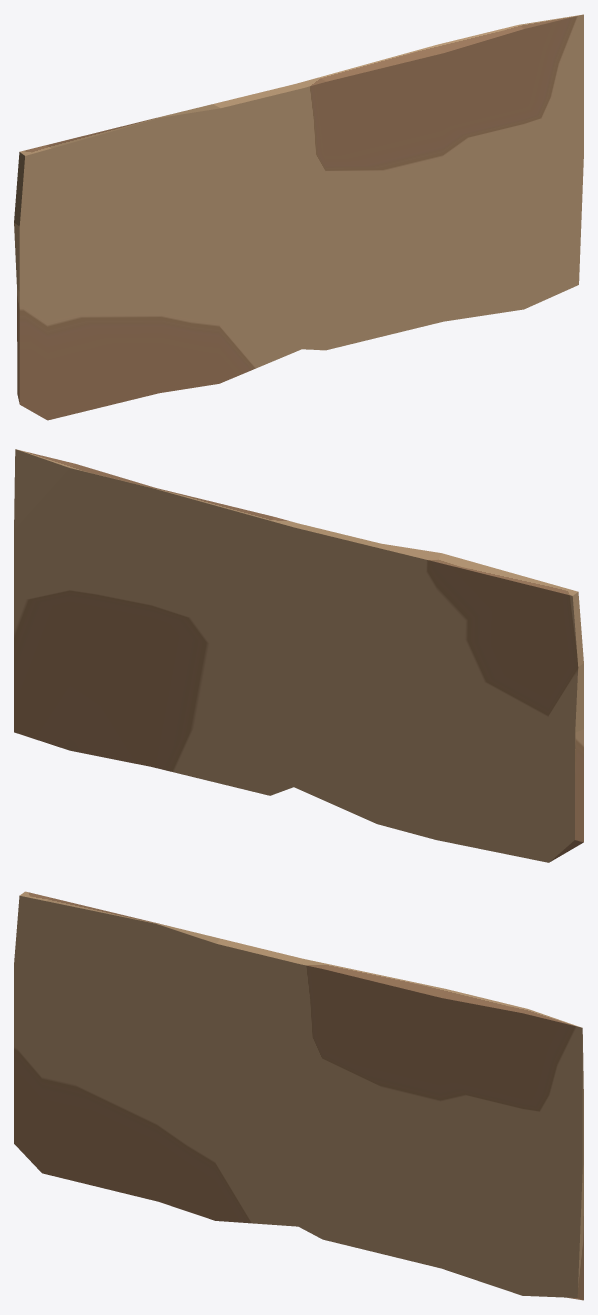
The model's file is SM_Plywood_Board_A.fbx.
The picture shows the model from 3 angles, top to bottom: view 1: azimuth 30°, elevation 25°; view 2: azimuth 150°, elevation 25°; view 3: azimuth 330°, elevation 25°; orthographic projection.
Visible parts, largest first — view 1: SM_Plywood_Board_A; view 2: SM_Plywood_Board_A; view 3: SM_Plywood_Board_A.
Boxes of the visible parts, left/top/right/bottom form: SM_Plywood_Board_A: left=14, top=14, right=583, bottom=420; SM_Plywood_Board_A: left=14, top=449, right=583, bottom=862; SM_Plywood_Board_A: left=14, top=891, right=583, bottom=1300.
Bounding box in the file's own units: 132 × 62.9 × 2.33.
